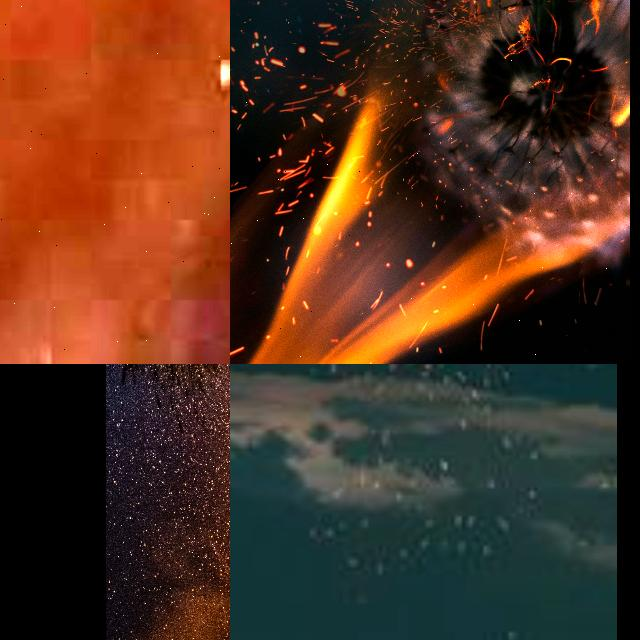fire: (248, 0, 629, 364)
smoke: (0, 0, 230, 364)
